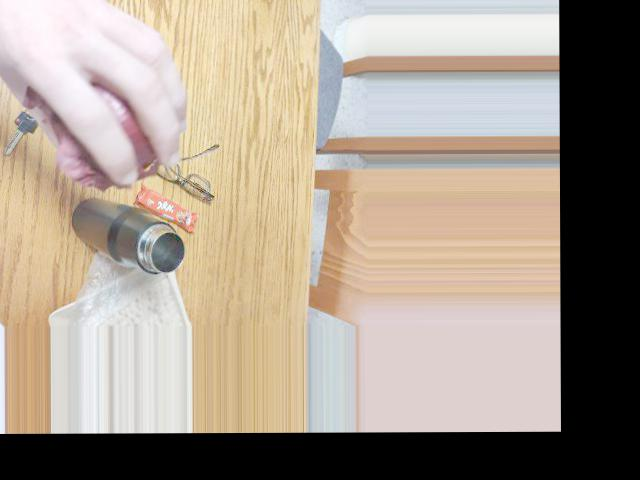onion: (33, 68, 165, 166)
